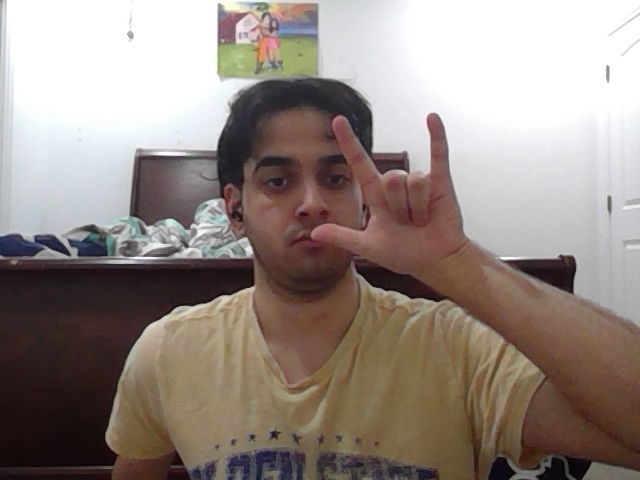iLoveYou: (315, 112, 479, 275)
